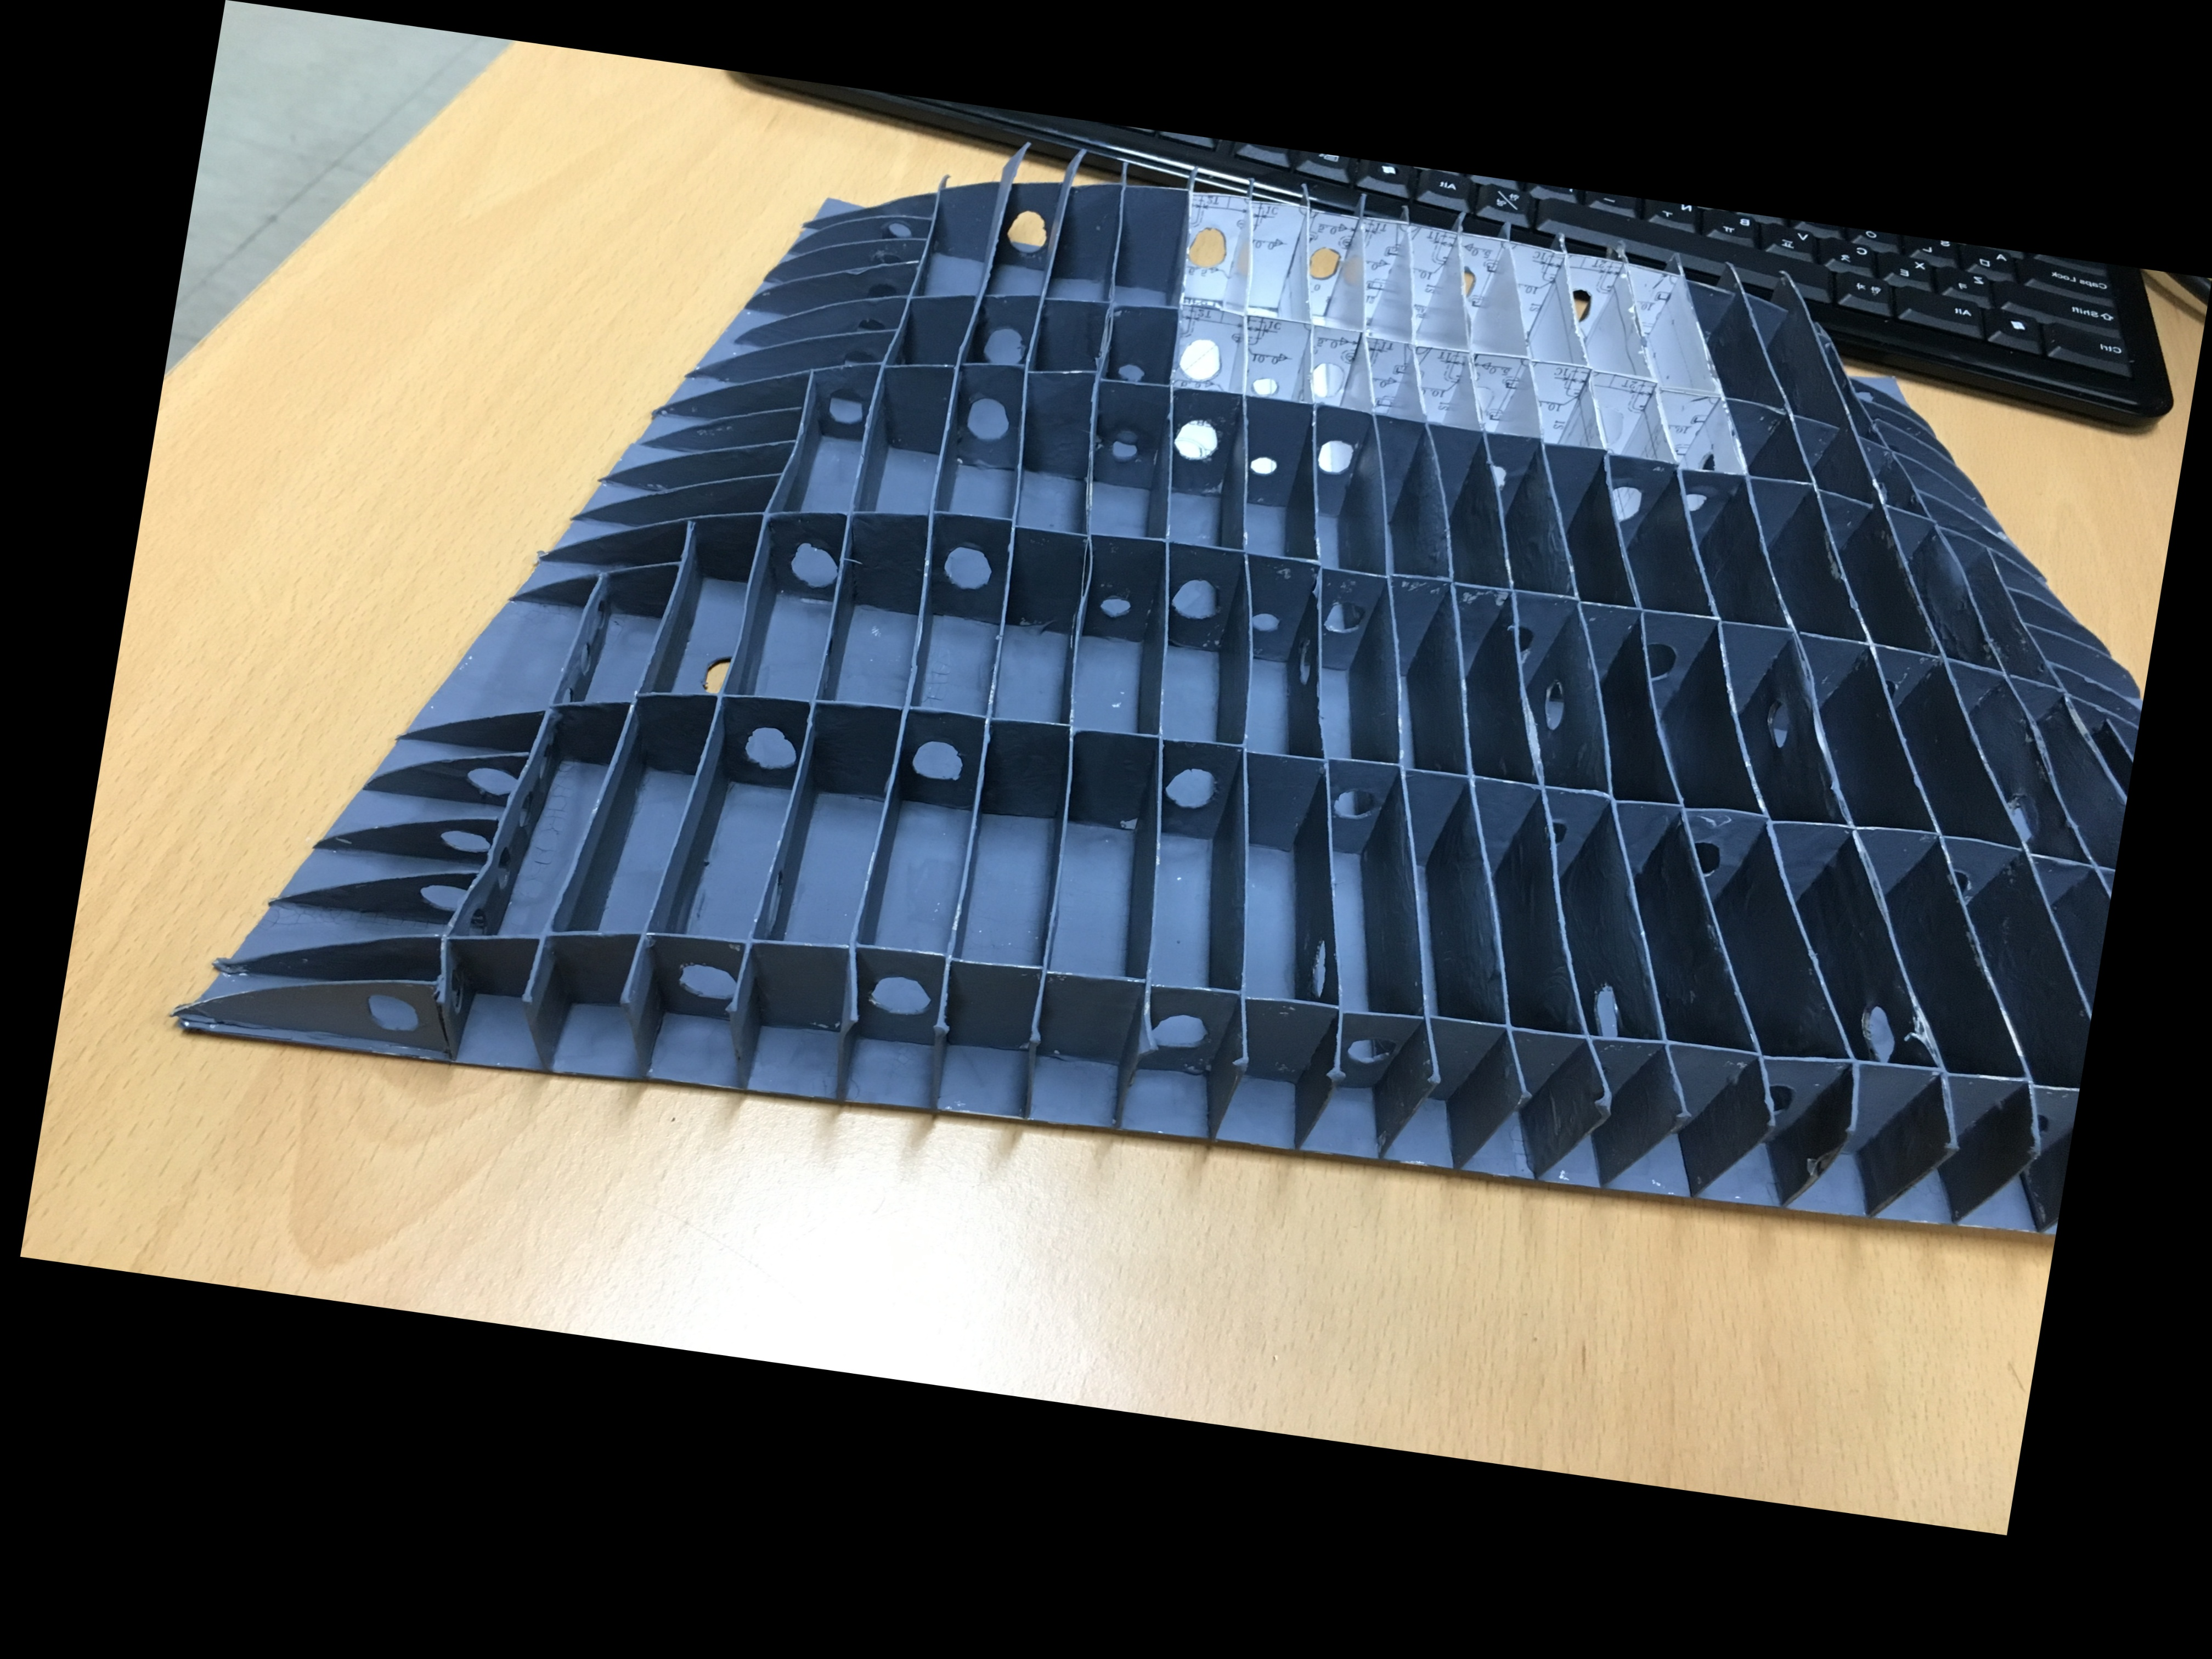C: (169, 45, 2207, 1323)
